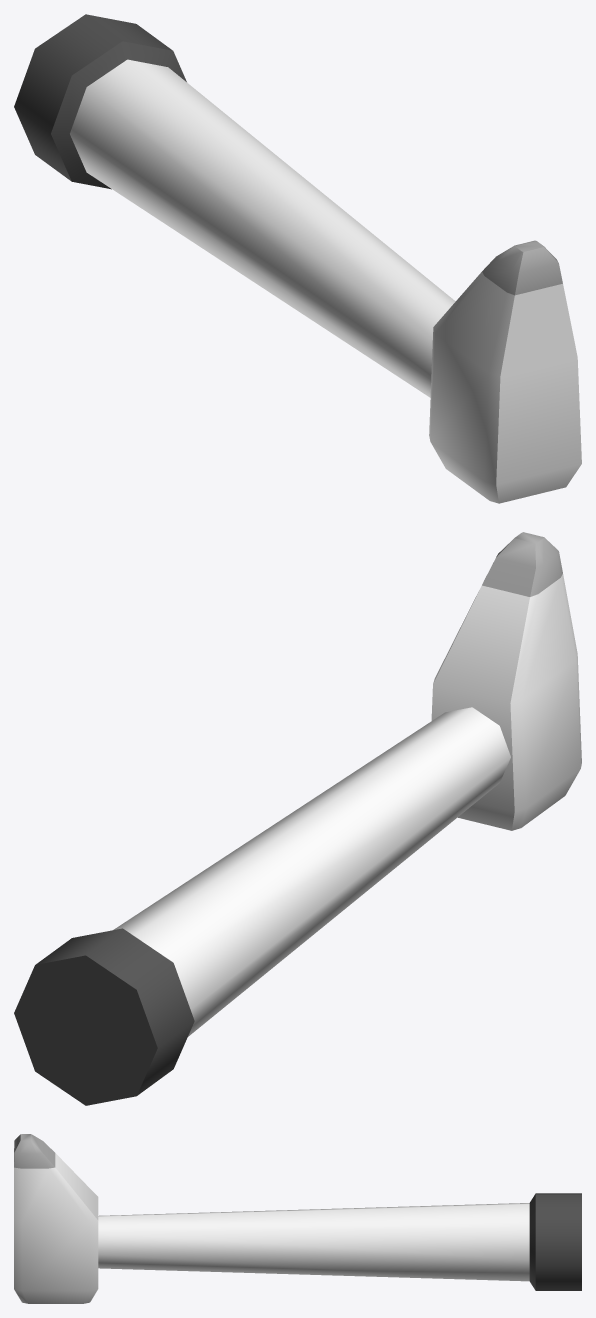
Rendered from windmill_base.obj.
The picture shows the model from 3 angles, top to bottom: view 1: azimuth 30°, elevation 25°; view 2: azimuth 150°, elevation 25°; view 3: azimuth 270°, elevation 25°; orthographic projection. The views are drawn at different scales.
Parts seen in each view (by area): view 1: windmill_base; view 2: windmill_base; view 3: windmill_base.
Part boxes in pixels (x1,y1,x2,y2): windmill_base: (14,14,581,503); windmill_base: (14,532,581,1105); windmill_base: (14,1134,581,1303).
Size of the model in its own units: 1.23 by 2.02 by 6.72.
